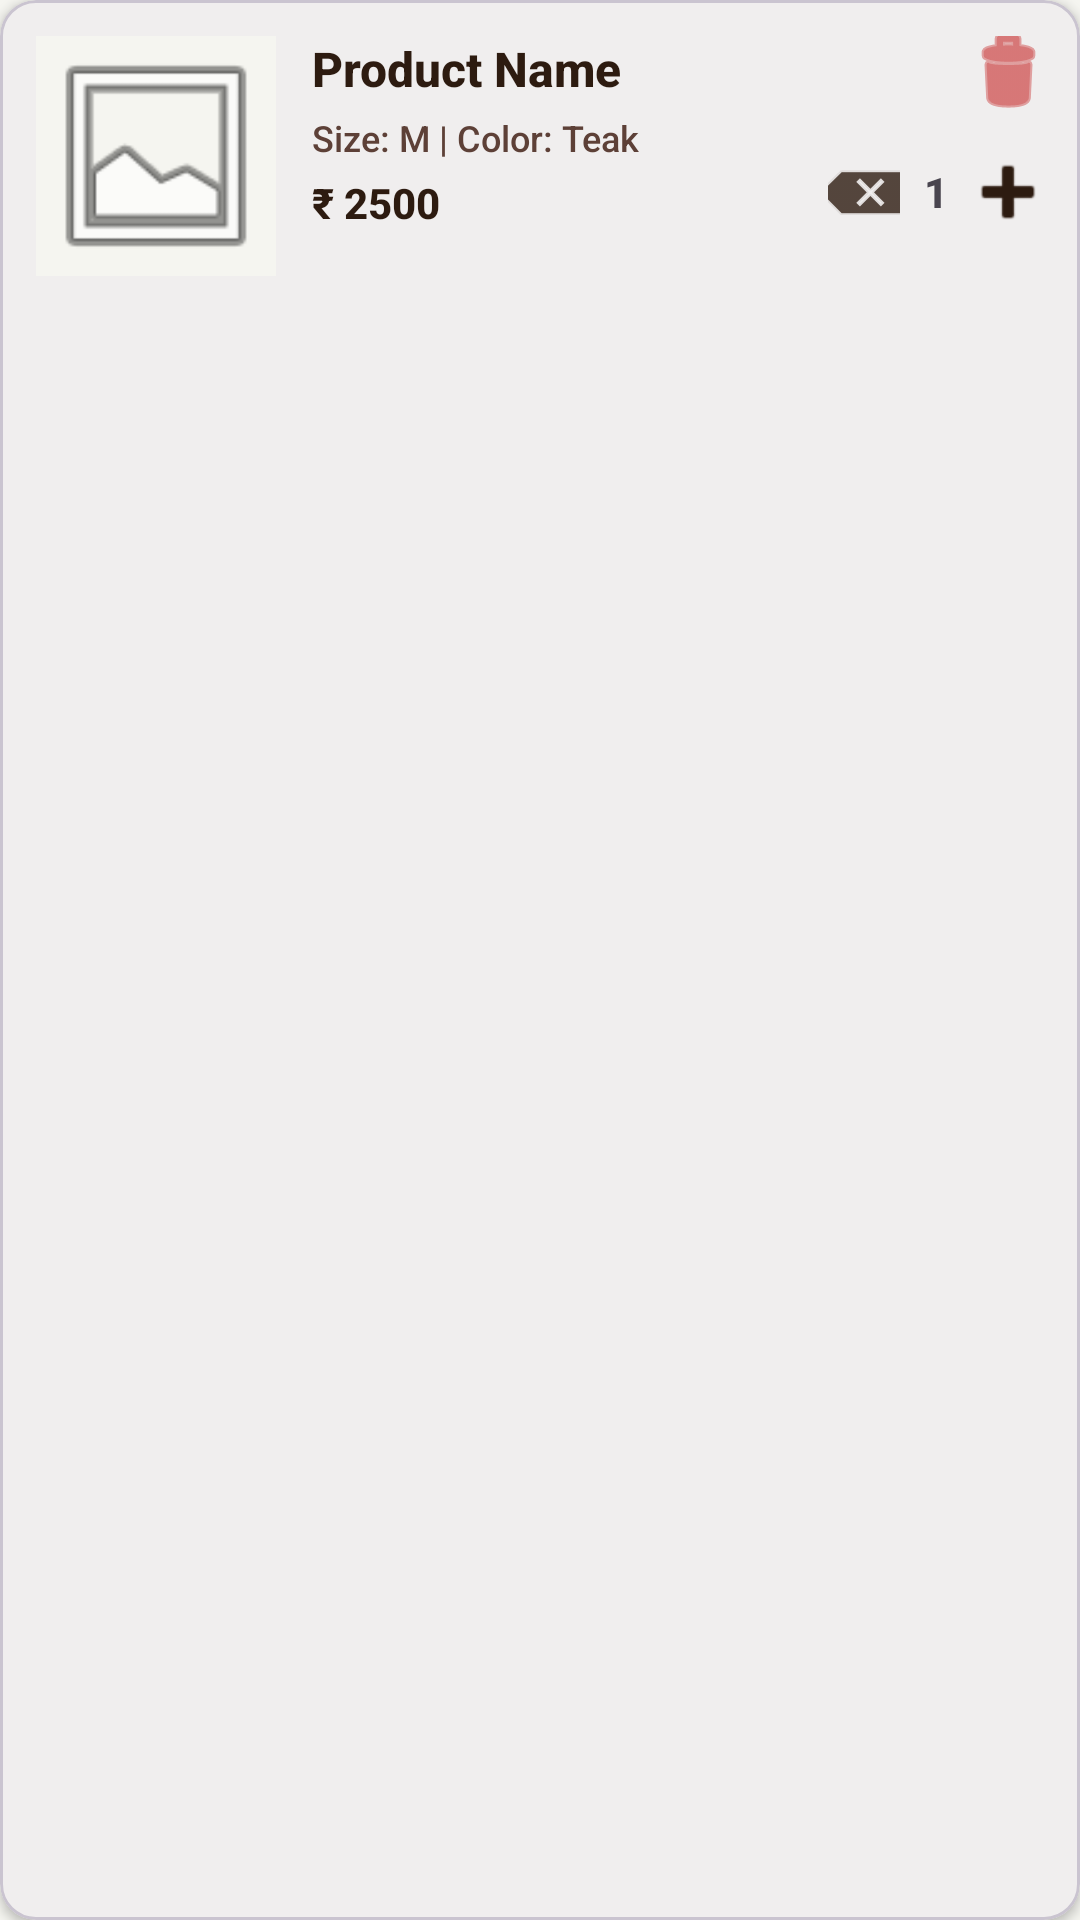

Screen size 1080 × 1920. Icon name, then its box in pixels as {"left": x1, "top": y1, "right": x2, "bottom": y2}:
add: {"left": 981, "top": 165, "right": 1035, "bottom": 219}
delete: {"left": 981, "top": 36, "right": 1036, "bottom": 108}, {"left": 828, "top": 172, "right": 900, "bottom": 214}
gallery: {"left": 65, "top": 65, "right": 247, "bottom": 247}
